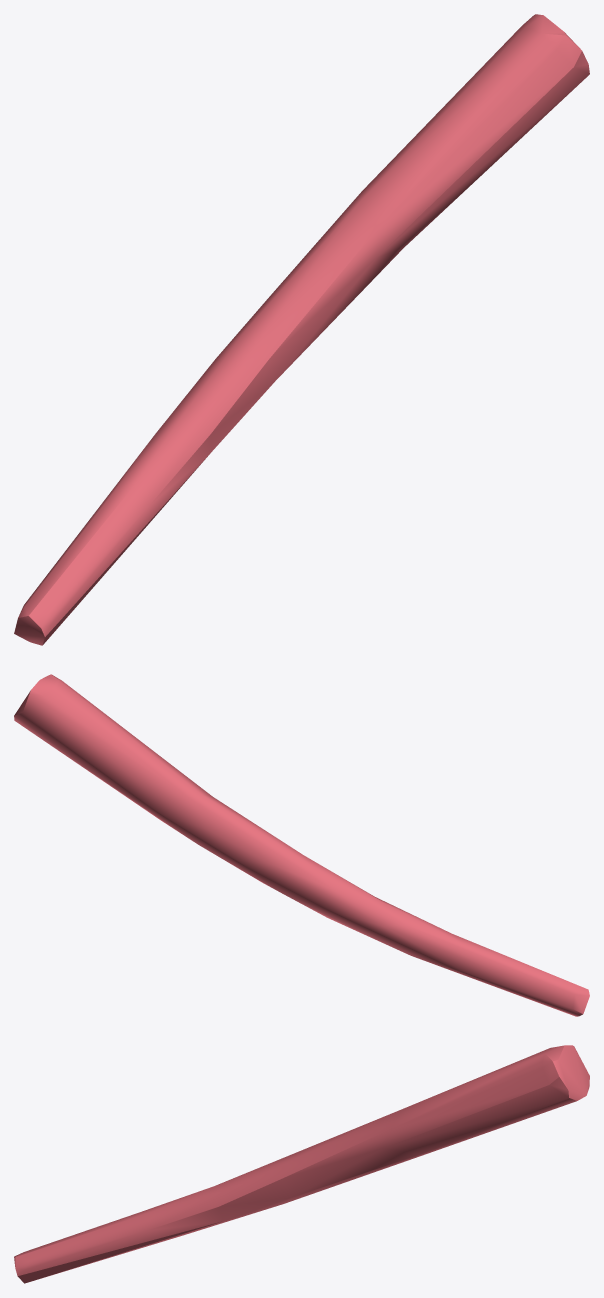
Rendered from fma68723_fj3002.glb.
The picture shows the model from 3 angles, top to bottom: view 1: azimuth 30°, elevation 25°; view 2: azimuth 150°, elevation 25°; view 3: azimuth 330°, elevation 25°; orthographic projection. The views are drawn at different scales.
Visible parts, largest first — view 1: FMA68723_FJ3002; view 2: FMA68723_FJ3002; view 3: FMA68723_FJ3002.
Part boxes in pixels (x1,y1,x2,y2): FMA68723_FJ3002: [14, 14, 589, 645]; FMA68723_FJ3002: [14, 674, 589, 1016]; FMA68723_FJ3002: [14, 1045, 589, 1283].
Bounding box in the file's own units: 0.037 × 0.0206 × 0.0136.
